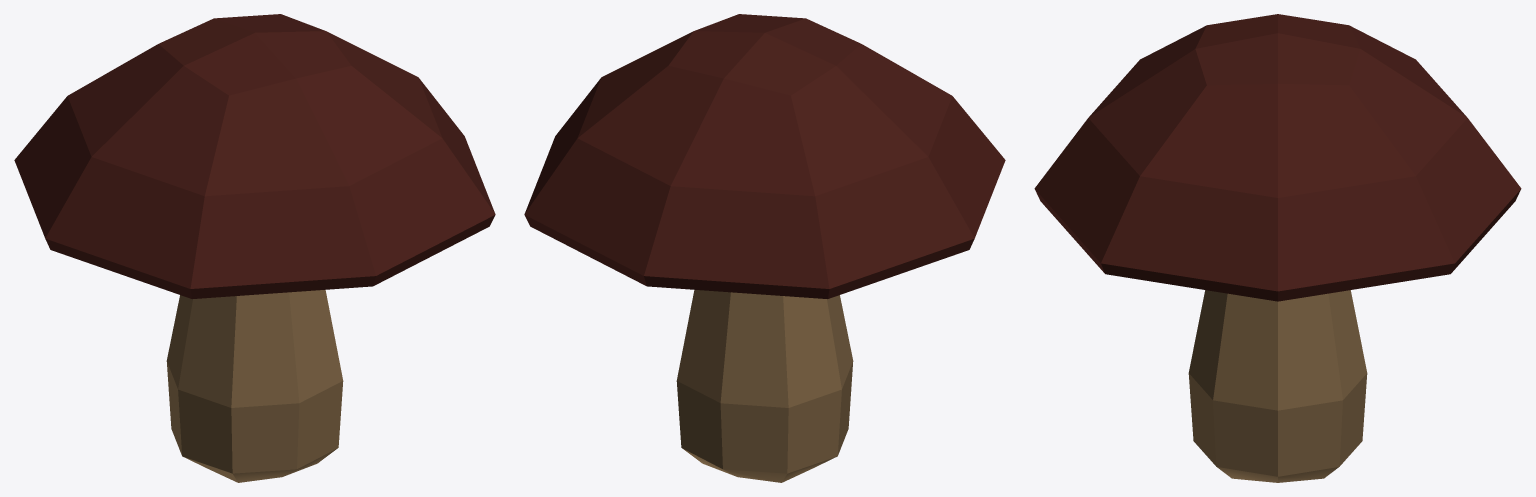
File: RTH_mushrooms.fbx
3 renders of one model, left to right at view 1: azimuth 30°, elevation 25°; view 2: azimuth 150°, elevation 25°; view 3: azimuth 270°, elevation 25°, orthographic.
Parts seen in each view (by area): view 1: F_RTH_mushroom; view 2: F_RTH_mushroom; view 3: F_RTH_mushroom.
Boxes of the visible parts, box(x1,y1,x2,y2) form: F_RTH_mushroom: box(14, 14, 495, 482); F_RTH_mushroom: box(524, 14, 1005, 482); F_RTH_mushroom: box(1034, 14, 1521, 482).
Bounding box in the file's own units: 93.39 × 91.1 × 93.39.
